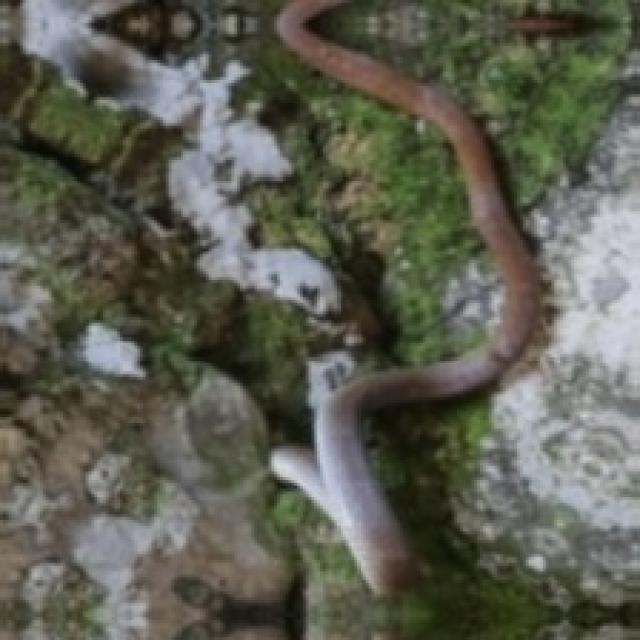reddish rat snake: (271, 0, 540, 591), (271, 0, 537, 591)
